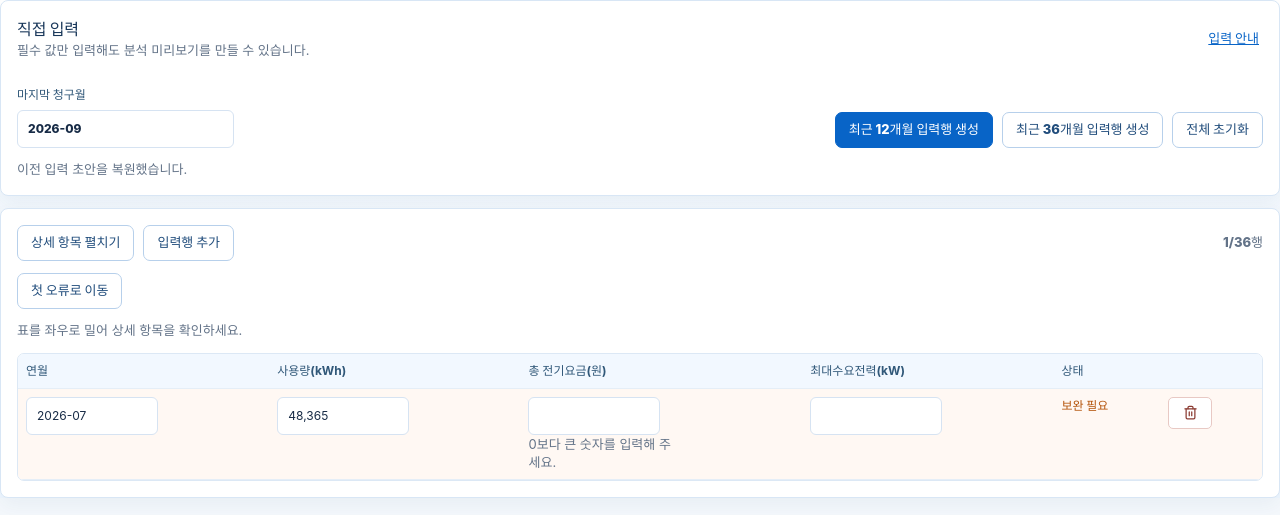
Test case: ManualBillInput › restores an expiring draft on mount
Focus the field named "2026-07 사용량(kWh)" at (343, 416), box x1=277 y1=396 x2=409 y2=434
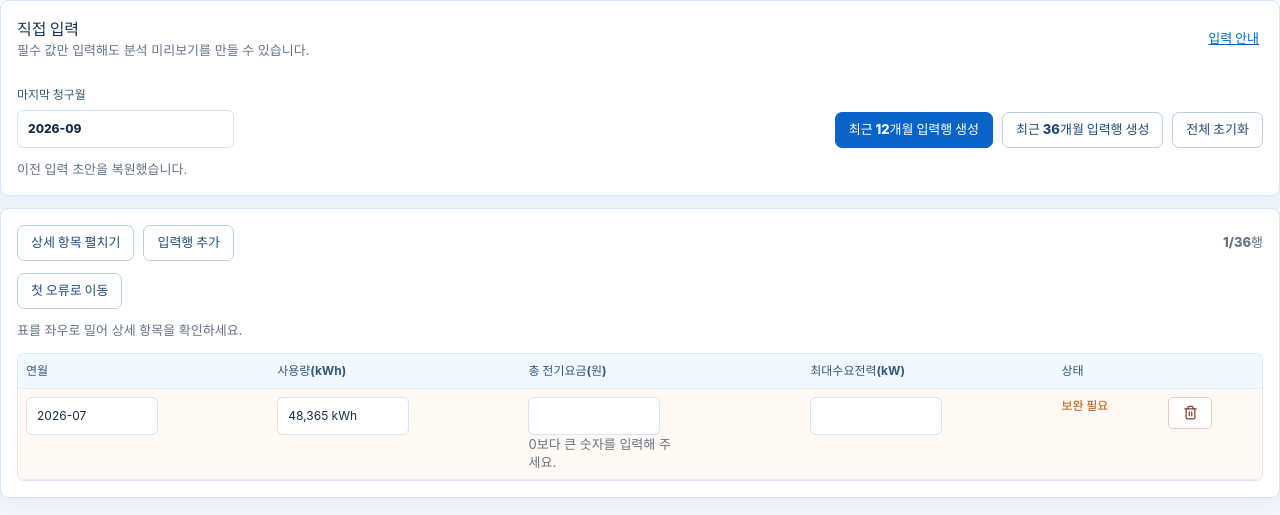
Expected: the text "이전 입력 초안을 복원했습니다." is shown, x1=17 y1=160 x2=187 y2=176
Expected: the field named "2026-07 사용량(kWh)" holds "48,365 kWh", x1=277 y1=396 x2=409 y2=434
